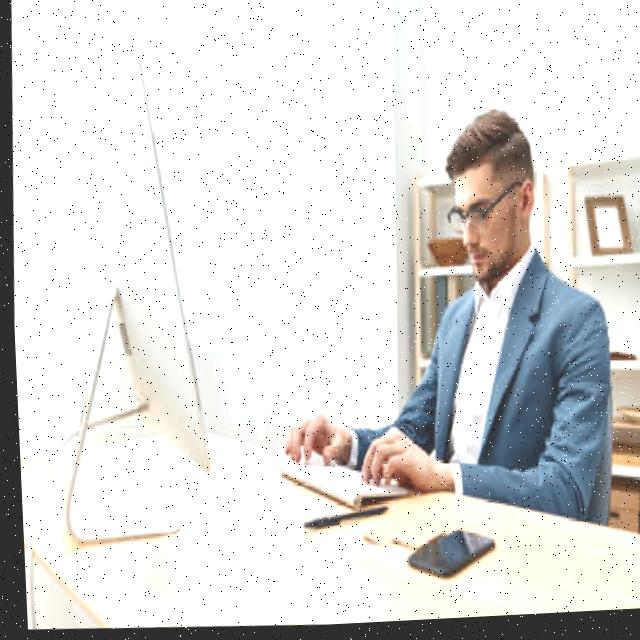desktop-person: (40, 15, 634, 597)
